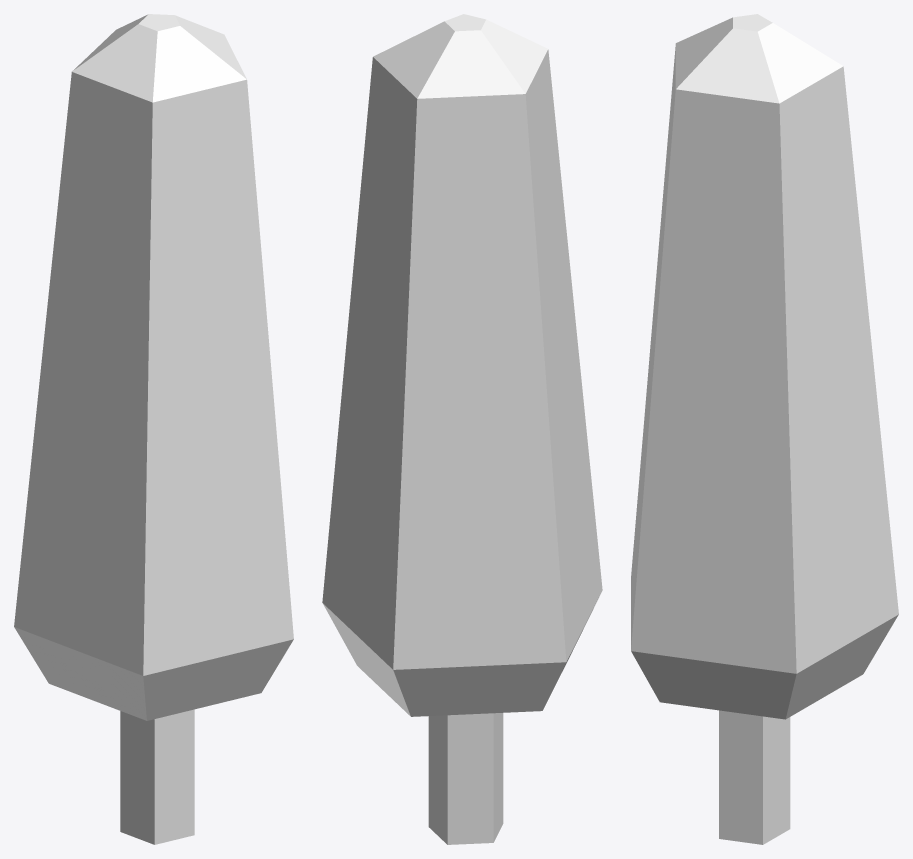
Rendered from tree3.glb.
The picture shows the model from 3 angles, left to right: view 1: azimuth 30°, elevation 25°; view 2: azimuth 150°, elevation 25°; view 3: azimuth 270°, elevation 25°; orthographic projection.
Visible parts, largest first — view 1: tree.003; view 2: tree.003; view 3: tree.003.
Boxes of the visible parts, left/top/right/bottom form: tree.003: left=14, top=14, right=293, bottom=844; tree.003: left=322, top=14, right=602, bottom=844; tree.003: left=631, top=14, right=898, bottom=844.
Size of the model in its own units: 2 by 6.33 by 1.91.
Materials: 1 (1 with a texture image).
